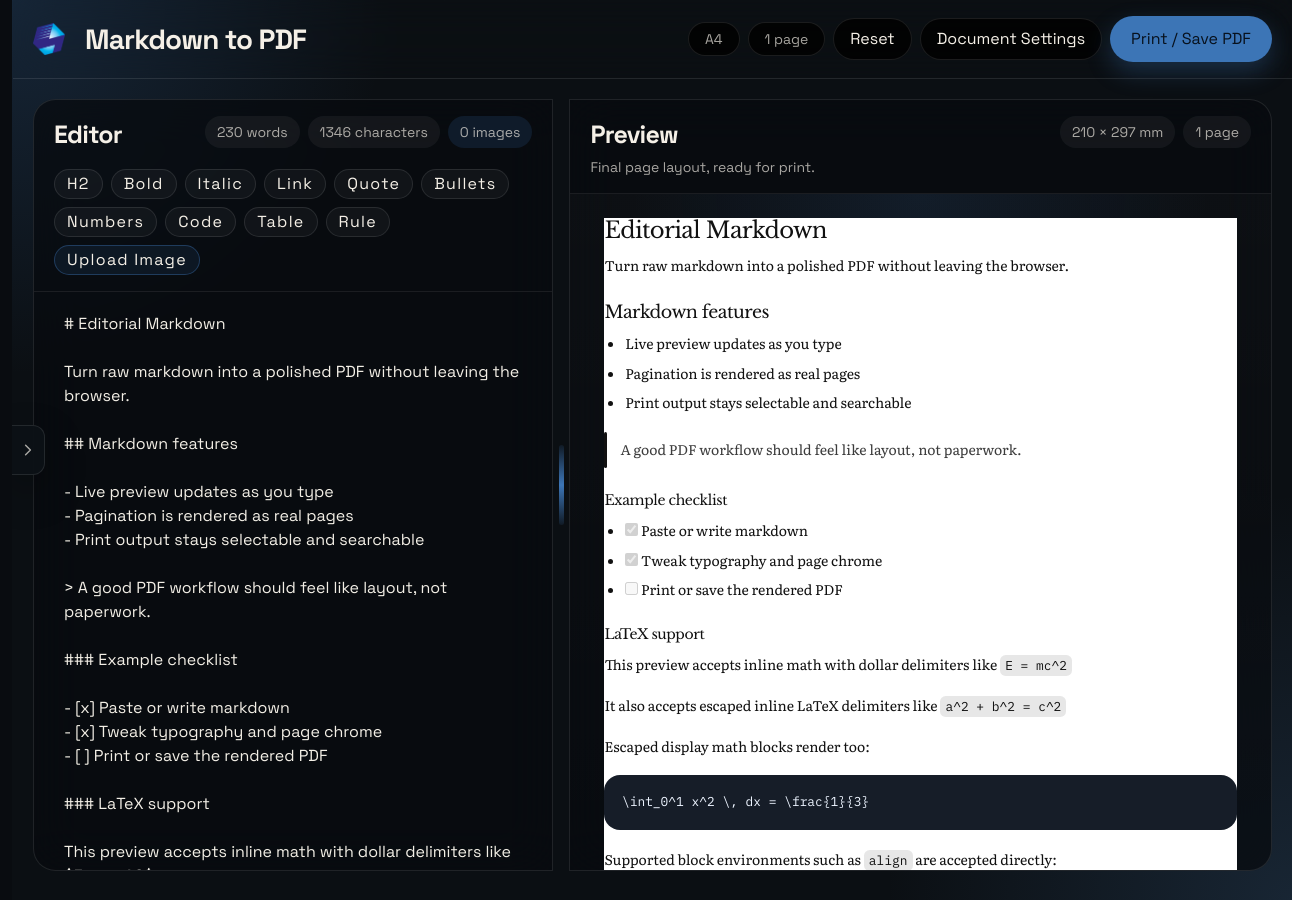
Scenario: App › keeps document settings collapsed until requested
The width and height of the screenshot is (1292, 900).
Click the button "Document Settings" at [1011, 39], box [920, 18, 1102, 60]
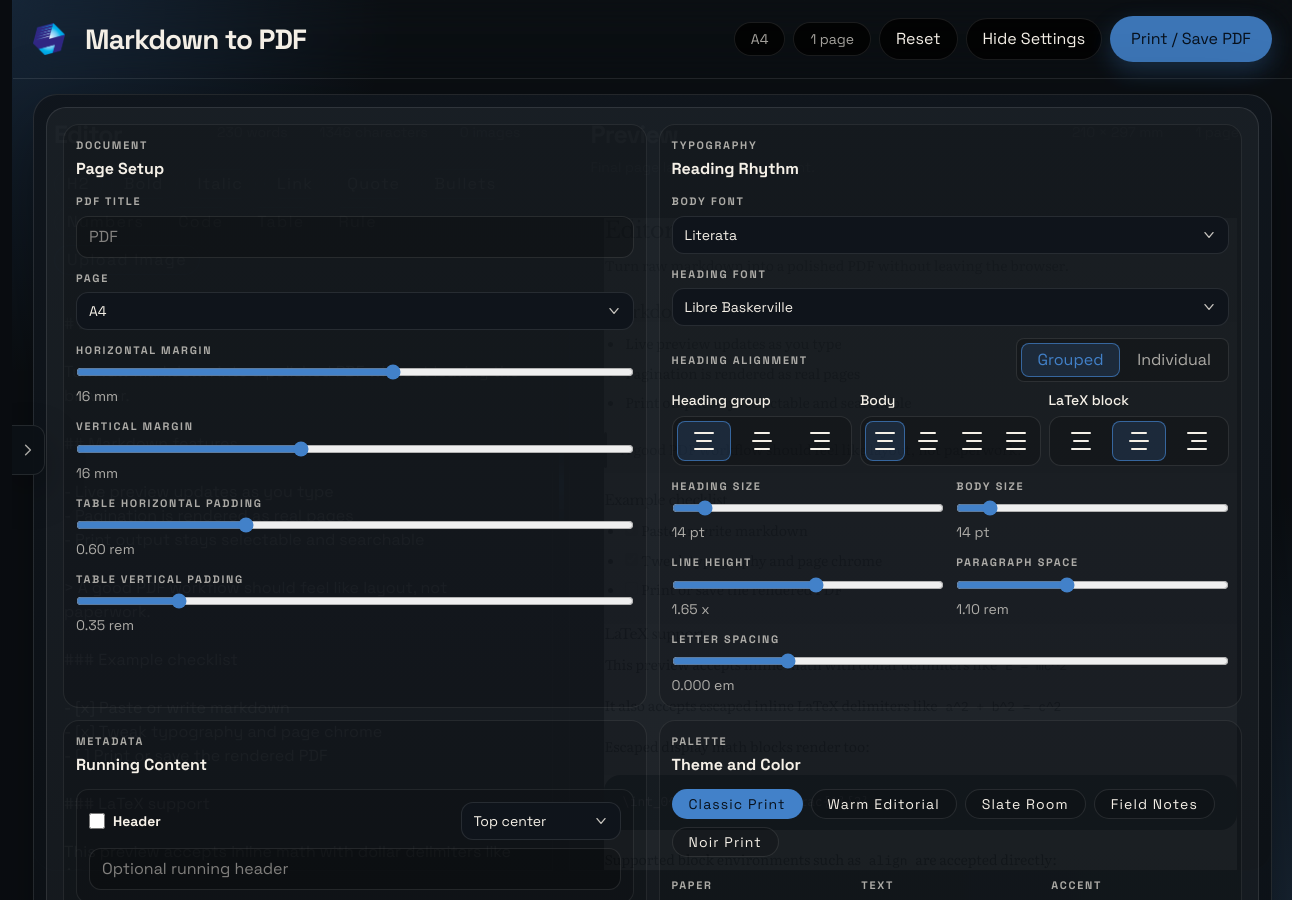
Expected: the dropdown labelled "Page" is shown, [76, 292, 634, 330]
Expected: the slider labelled "Horizontal margin" is shown, [76, 364, 634, 380]
Expected: the slider labelled "Vertical margin" is shown, [76, 441, 634, 457]
